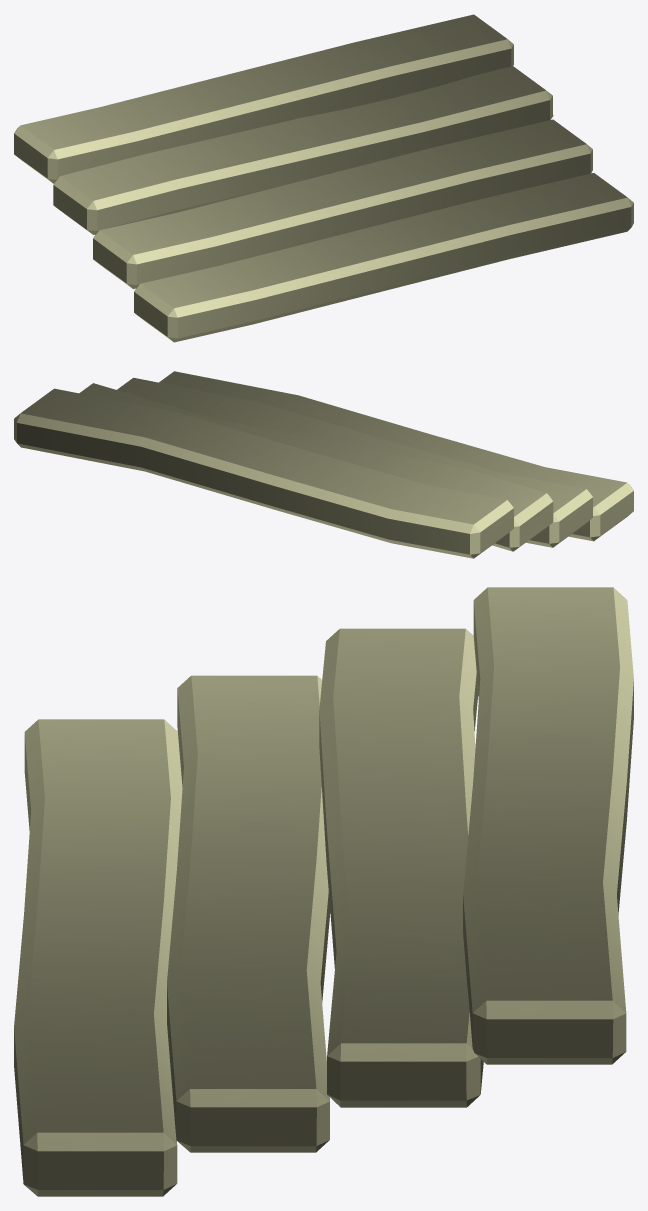
Rendered from Stairs.fbx.
The picture shows the model from 3 angles, top to bottom: view 1: azimuth 30°, elevation 25°; view 2: azimuth 150°, elevation 25°; view 3: azimuth 270°, elevation 25°; orthographic projection. The views are drawn at different scales.
Parts seen in each view (by area): view 1: pCube5; view 2: pCube5; view 3: pCube5.
Boxes of the visible parts, bbox=[...] form: pCube5: bbox=[14, 14, 633, 342]; pCube5: bbox=[14, 371, 633, 558]; pCube5: bbox=[14, 587, 633, 1196].
Size of the model in its own units: 451 by 104 by 278.
